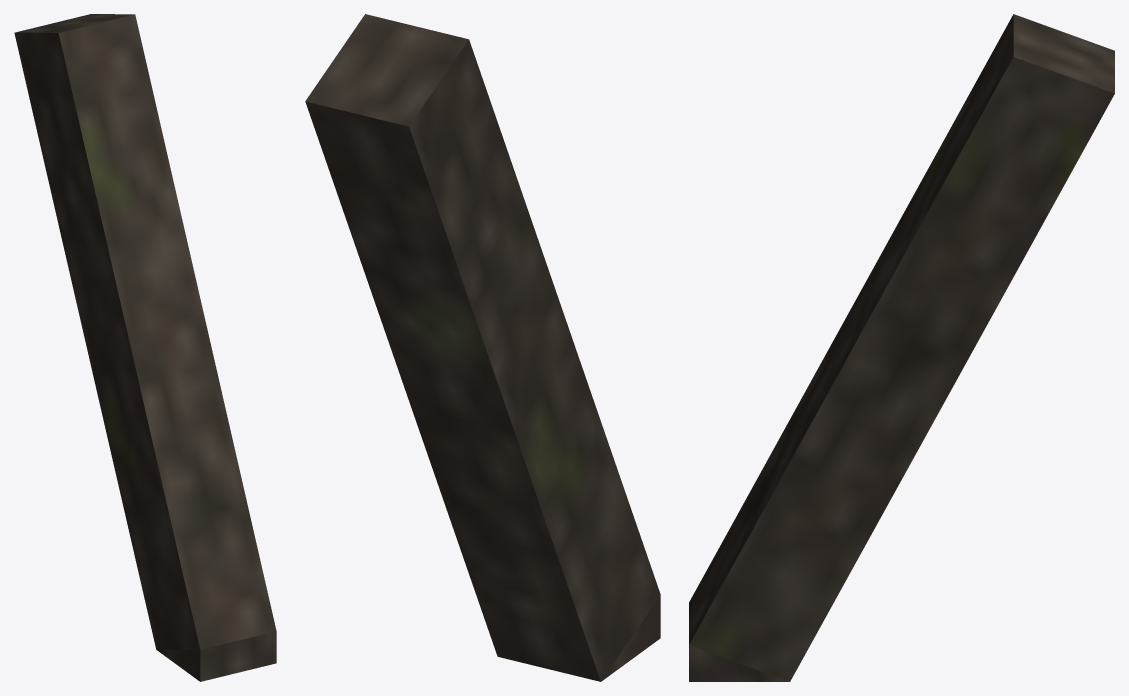
The model's file is spruce_thin_branch_22.5_straight.obj.
3 views of the same model, side by side, from view 1: azimuth 30°, elevation 25°; view 2: azimuth 150°, elevation 25°; view 3: azimuth 270°, elevation 25° (orthographic). The views are drawn at different scales.
Visible parts, largest first — view 1: cube_selection; view 2: cube_selection; view 3: cube_selection.
Boxes of the visible parts, bbox=[...] form: cube_selection: bbox=[14, 14, 276, 681]; cube_selection: bbox=[305, 14, 660, 681]; cube_selection: bbox=[689, 14, 1114, 681].
Bounding box in the file's own units: 0.3125 × 2.12 × 1.31.
